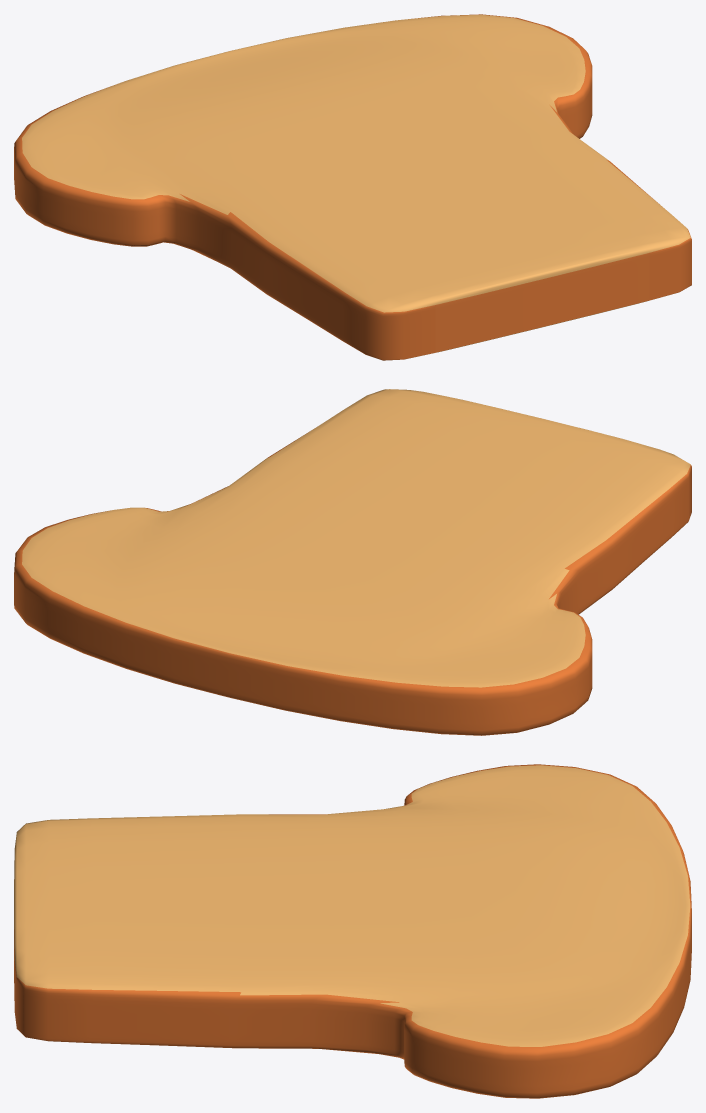
The model's file is Toast.fbx.
3 views of the same model, one above another, from view 1: azimuth 30°, elevation 25°; view 2: azimuth 150°, elevation 25°; view 3: azimuth 270°, elevation 25° (orthographic). The views are drawn at different scales.
Parts seen in each view (by area): view 1: Toast; view 2: Toast; view 3: Toast.
Boxes of the visible parts, x1=… form: Toast: x1=14, y1=14, x2=691, y2=360; Toast: x1=14, y1=389, x2=691, y2=735; Toast: x1=14, y1=764, x2=691, y2=1098.
Bounding box in the file's own units: 944 × 91.5 × 934.
